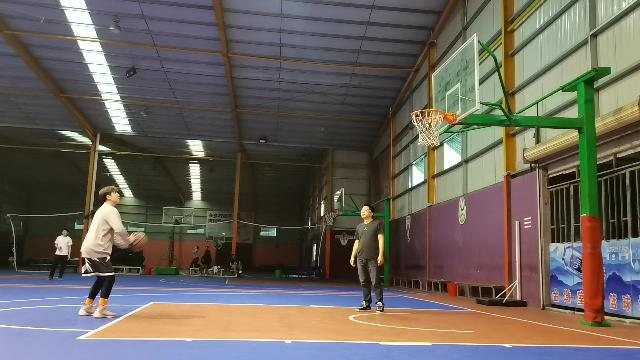ball: (129, 230, 147, 250)
basket: (409, 108, 445, 148), (324, 210, 334, 224)
